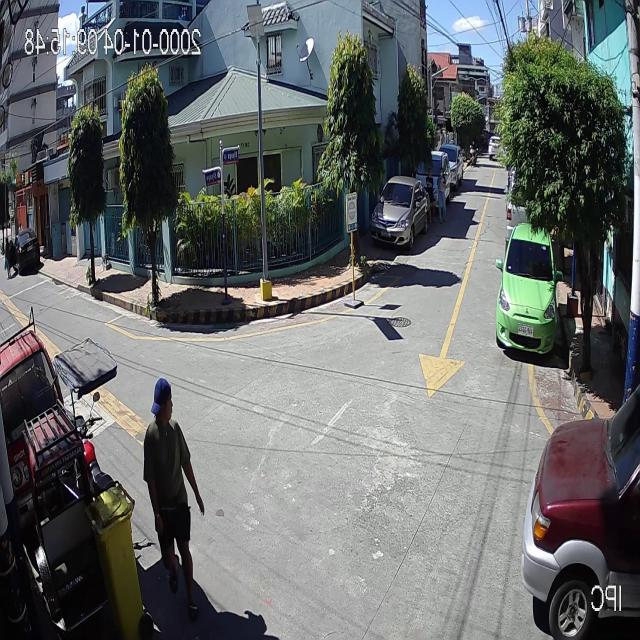walking: (144, 378, 206, 640)
